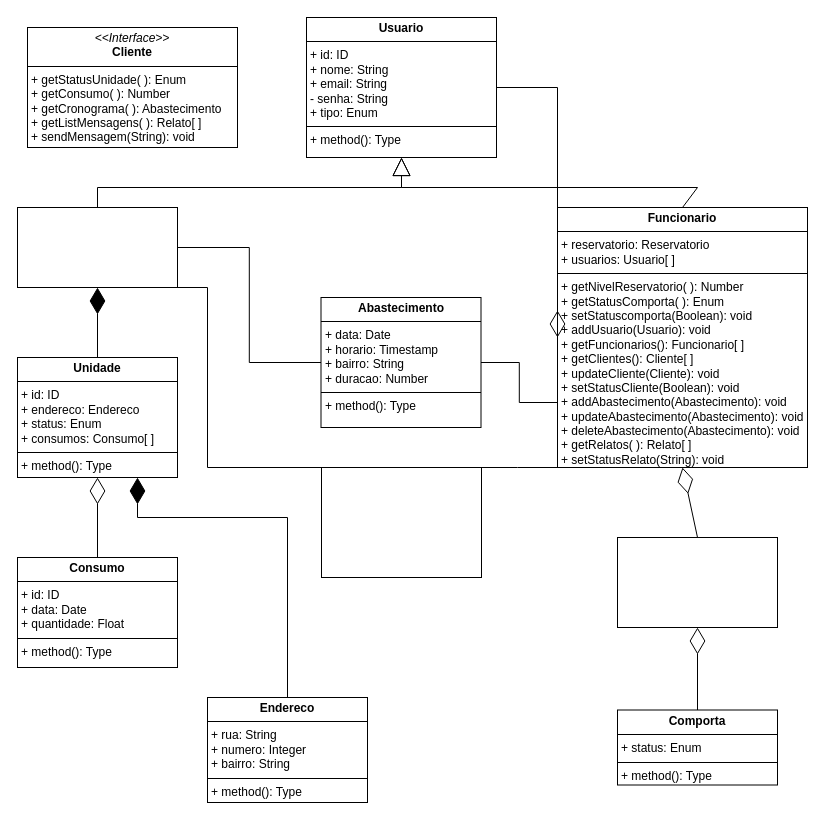
Some shapes in this 825 by 820 pixel diagram are drawn without their labels. The shapes that lost their labels are listed below. From the top down, each one's centre as x and y in pixels, then its label:
At (x=97, y=247): "Cliente + unidade: Unidade + method():".
At (x=401, y=522): "Relato + cliente: Cliente + mensagem: String + status: Enum + method(): Type".
At (x=697, y=582): "Reservatorio + nivel: Integer + comportas: Comporta[ ] + method(): Type".
